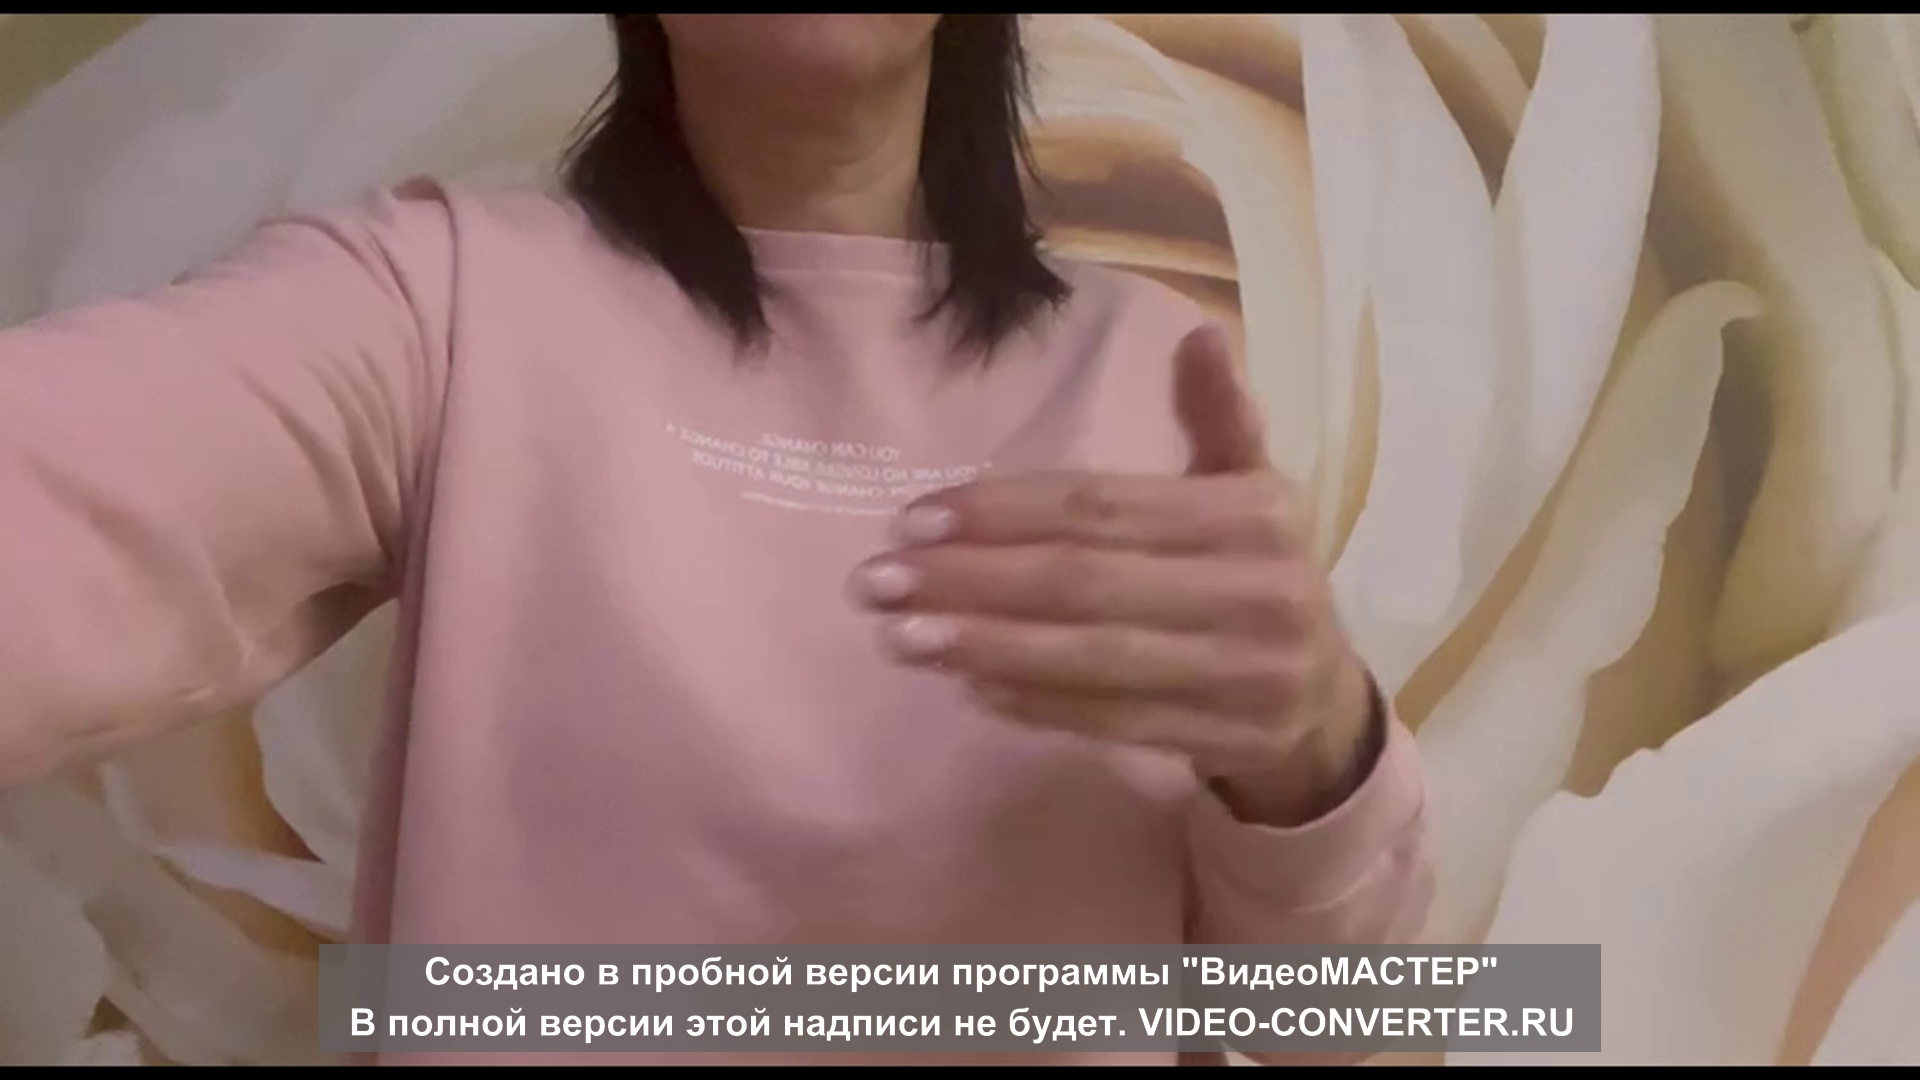Кисть: (847, 326, 1356, 773)
